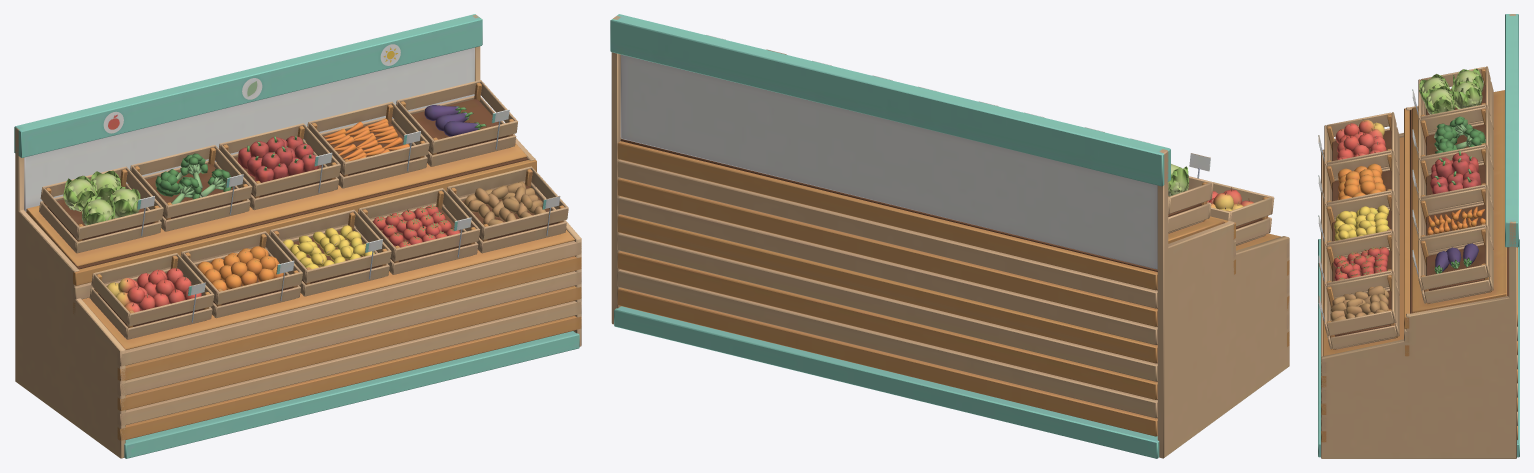
Rendered from produce-display.glb.
3 views of the same model, side by side, from view 1: azimuth 30°, elevation 25°; view 2: azimuth 150°, elevation 25°; view 3: azimuth 270°, elevation 25° (orthographic). The views are drawn at different scales.
Visible parts, largest first — view 1: produce-display_body; view 2: produce-display_body; view 3: produce-display_body.
Boxes of the visible parts, x1,y1,x2,y2 form: produce-display_body: (14, 14, 581, 458); produce-display_body: (610, 14, 1289, 458); produce-display_body: (1318, 14, 1519, 458).
Bounding box in the file's own units: 2.5 × 1.32 × 1.02.
1 material, 1 textured.
